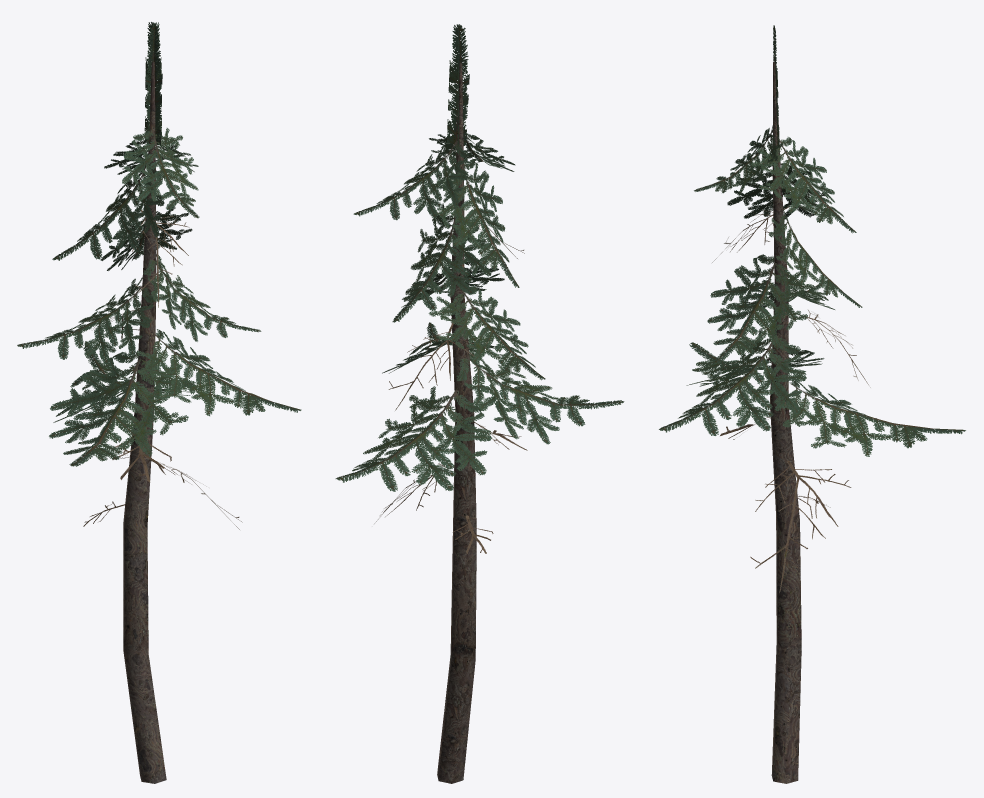
Rendered from pine_tree_01_b.glb.
3 renders of one model, left to right at view 1: azimuth 30°, elevation 25°; view 2: azimuth 150°, elevation 25°; view 3: azimuth 270°, elevation 25°, orthographic.
Parts seen in each view (by area): view 1: pine_tree_01_b; view 2: pine_tree_01_b; view 3: pine_tree_01_b.
Boxes of the visible parts, x1=… form: pine_tree_01_b: x1=17, y1=22, x2=301, y2=783; pine_tree_01_b: x1=335, y1=24, x2=624, y2=783; pine_tree_01_b: x1=659, y1=25, x2=965, y2=783.
Size of the model in its own units: 2.42 by 8.13 by 3.05.
Materials: 2 (2 with a texture image).
